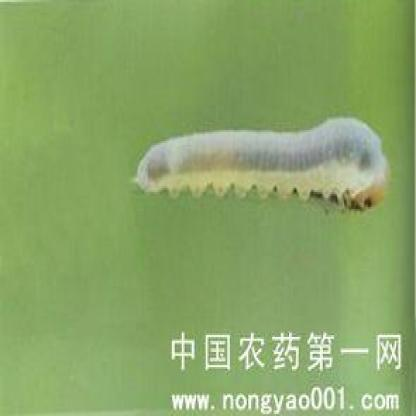sawfly: (128, 112, 390, 215)
